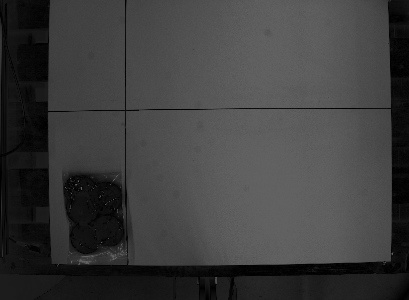t1: (58, 166, 134, 267)
